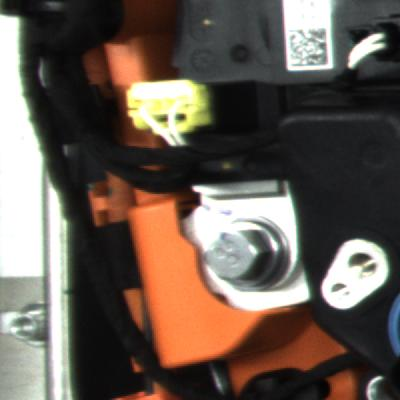nut_b: (189, 208, 284, 294)
